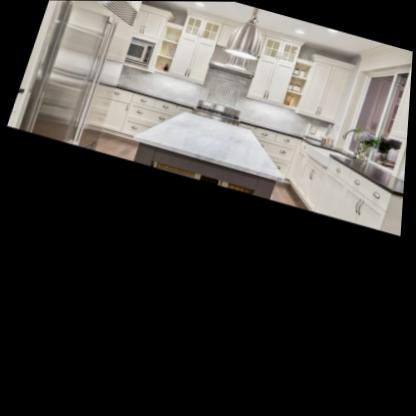Cabinet: (244, 29, 306, 109), (167, 6, 226, 82), (295, 53, 357, 124), (386, 50, 413, 146)
